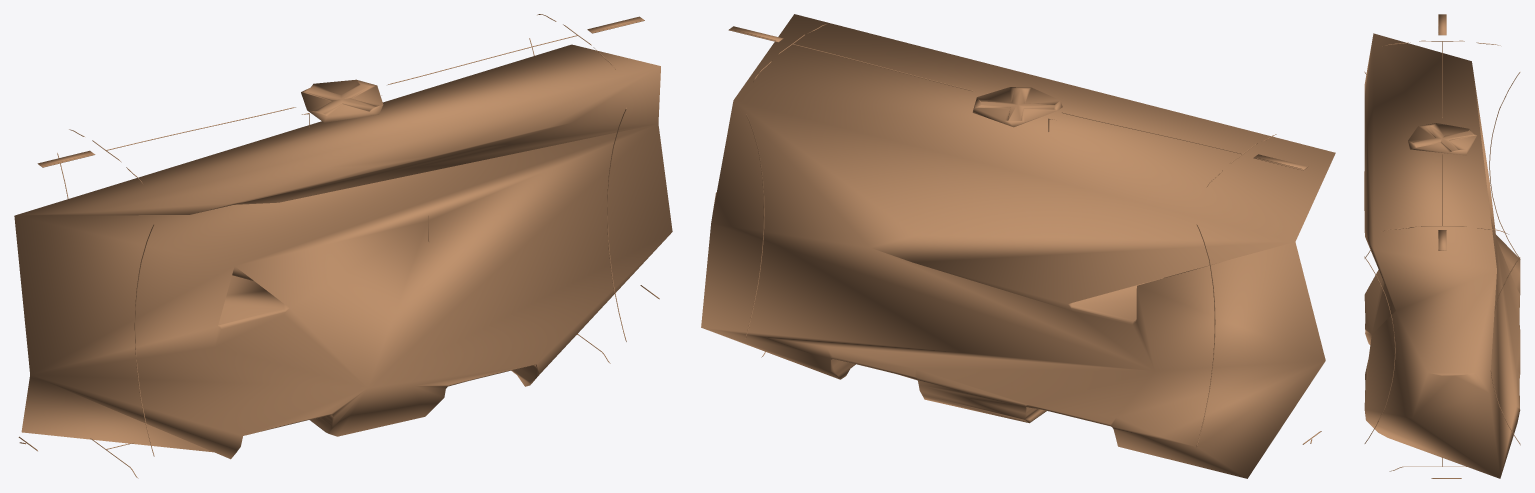
The model's file is barrier.glb.
3 views of the same model, side by side, from view 1: azimuth 30°, elevation 25°; view 2: azimuth 150°, elevation 25°; view 3: azimuth 270°, elevation 25° (orthographic). The views are drawn at different scales.
Visible parts, largest first — view 1: geometry_0; view 2: geometry_0; view 3: geometry_0.
Part boxes in pixels (x1,y1,x2,y2): geometry_0: (14,14,672,478); geometry_0: (701,14,1335,478); geometry_0: (1364,14,1520,478).
Bounding box in the file's own units: 1.76 × 0.8326 × 0.4713.
1 material, 1 textured.
